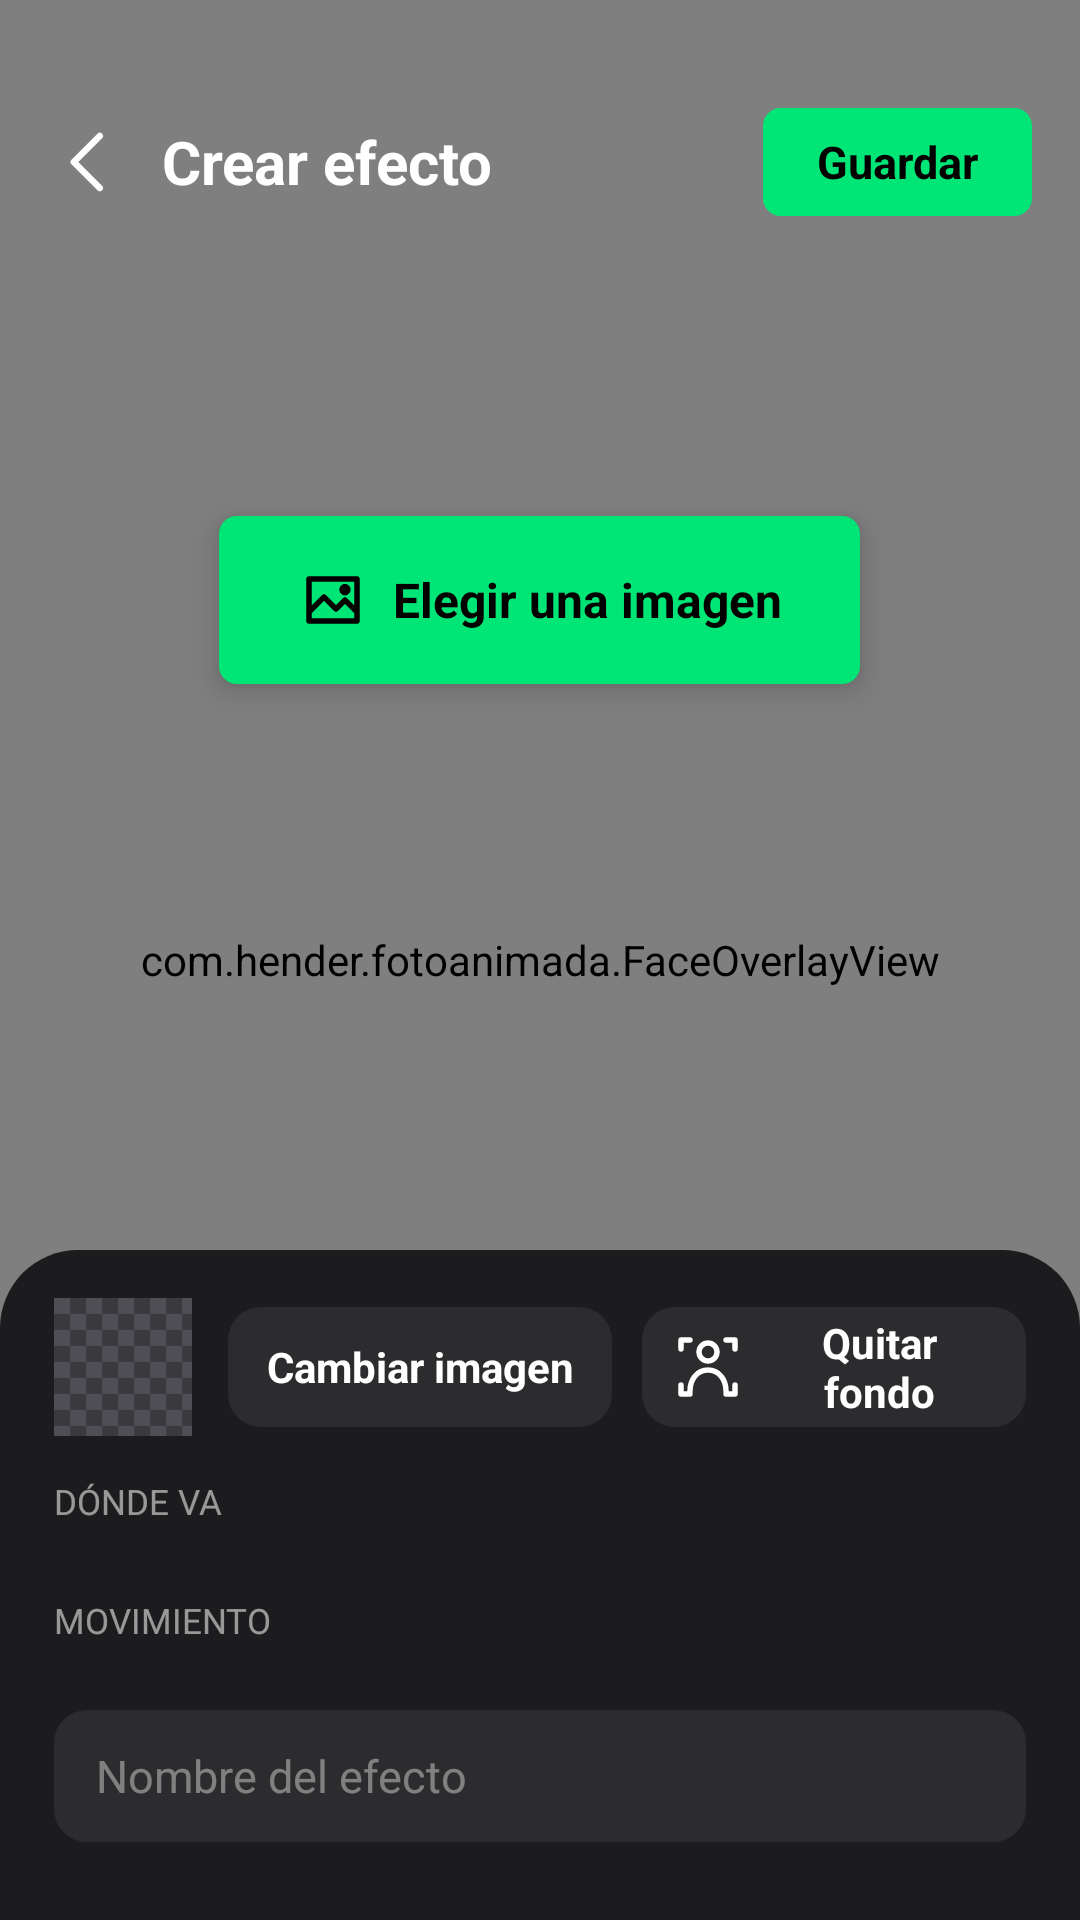

Screen size 1080px×1920px. Icon name, then its box in pixels as Rect(x1, y1, x2, y2):
Volver: Rect(70, 132, 103, 192)
